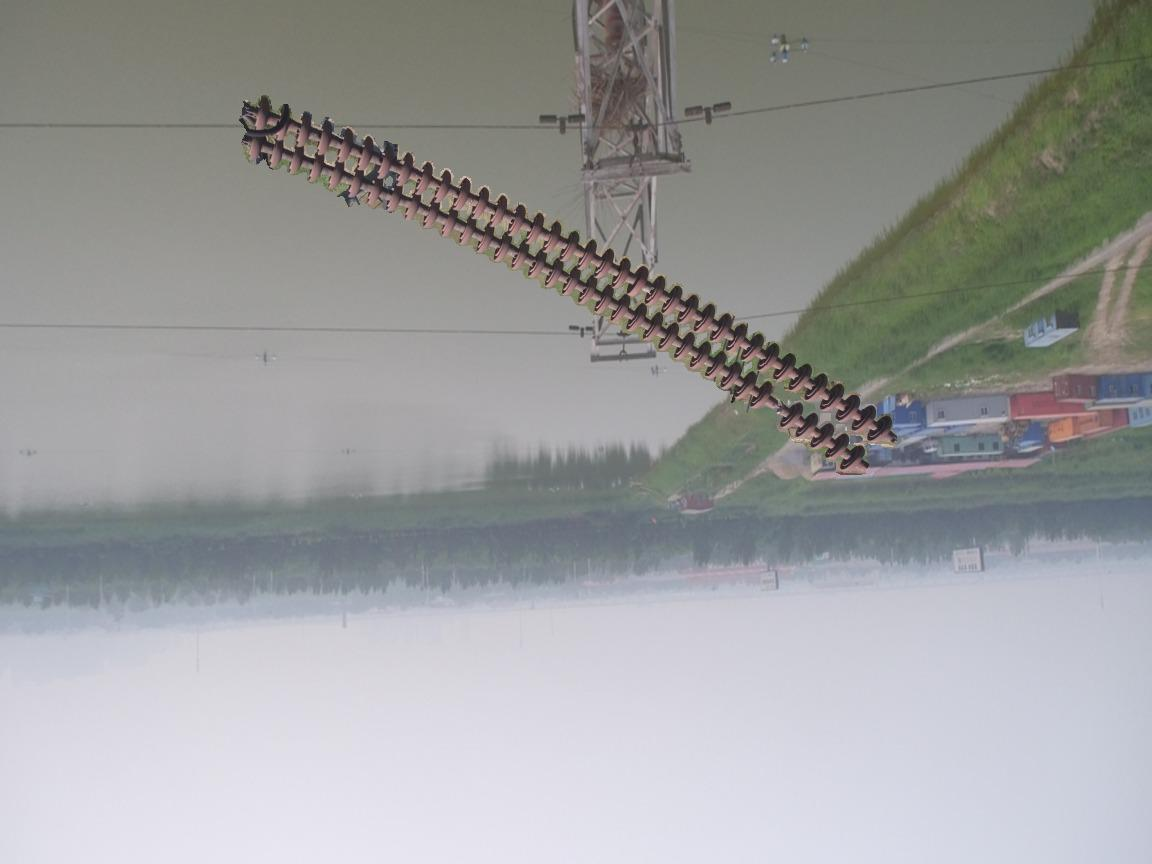insulator: (241, 90, 903, 476)
insulator_stringdrop: (747, 378, 808, 433)
